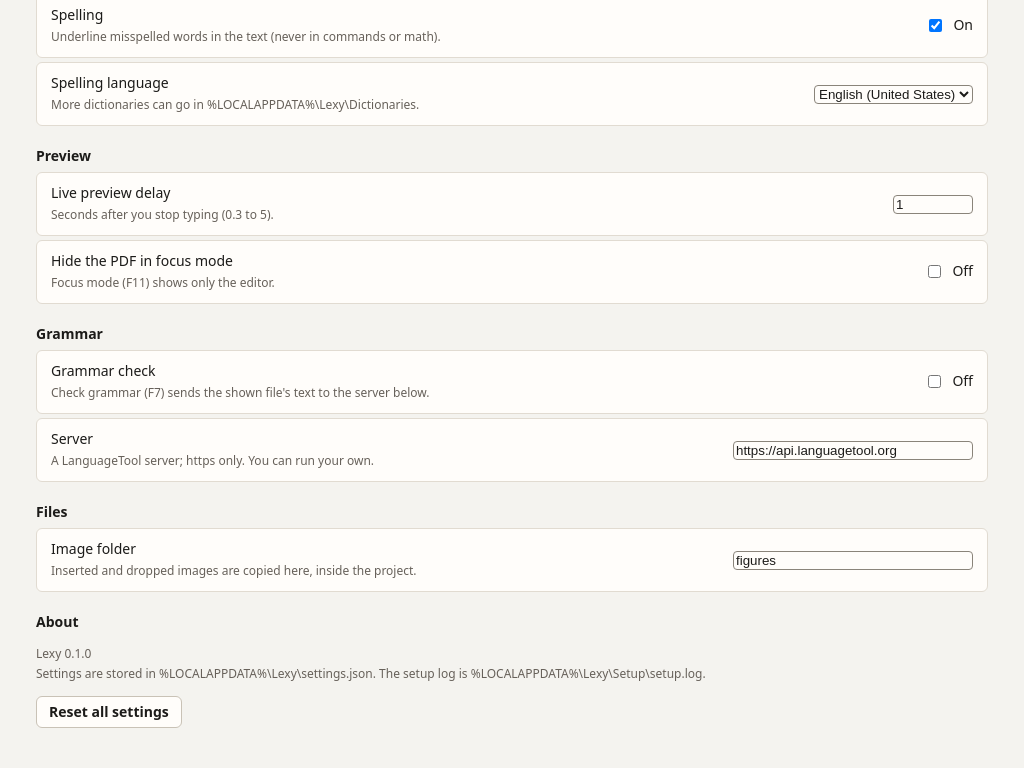
Test: SettingsDialog › refuses an invalid image folder or a non-https grammar server
(page scrolled)
Replace the text in the field labelled "Image folder" with "a:b" at (853, 560), box [733,550,973,570]
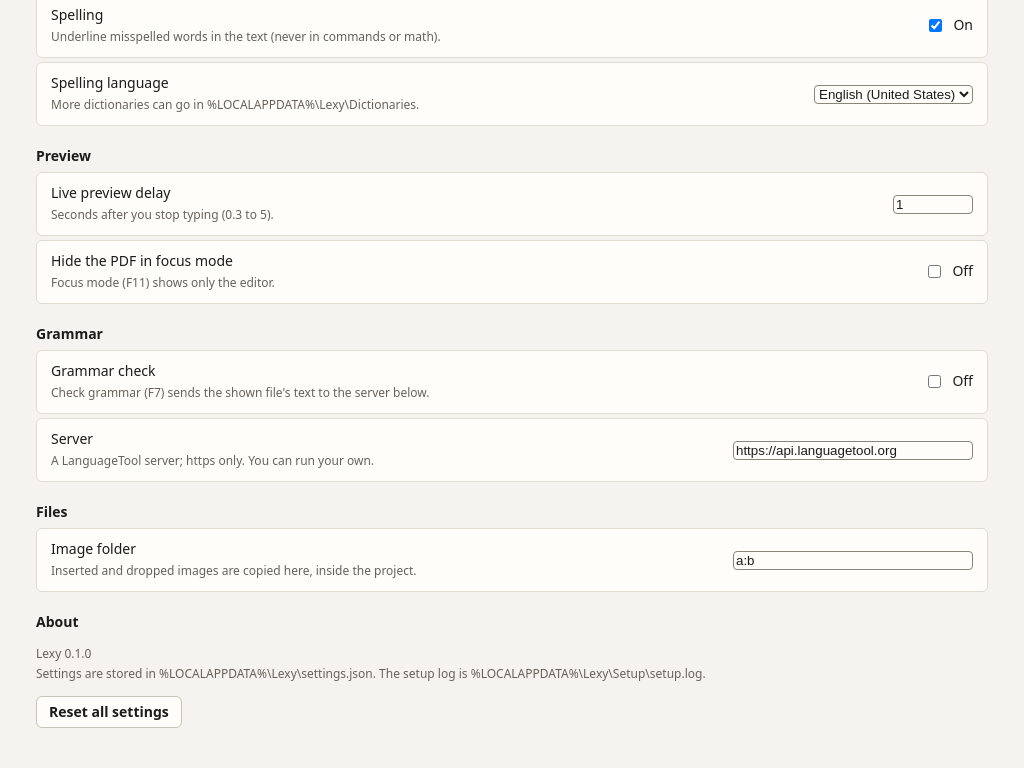
Leave the field labelled "Image folder", box [733,550,973,570]
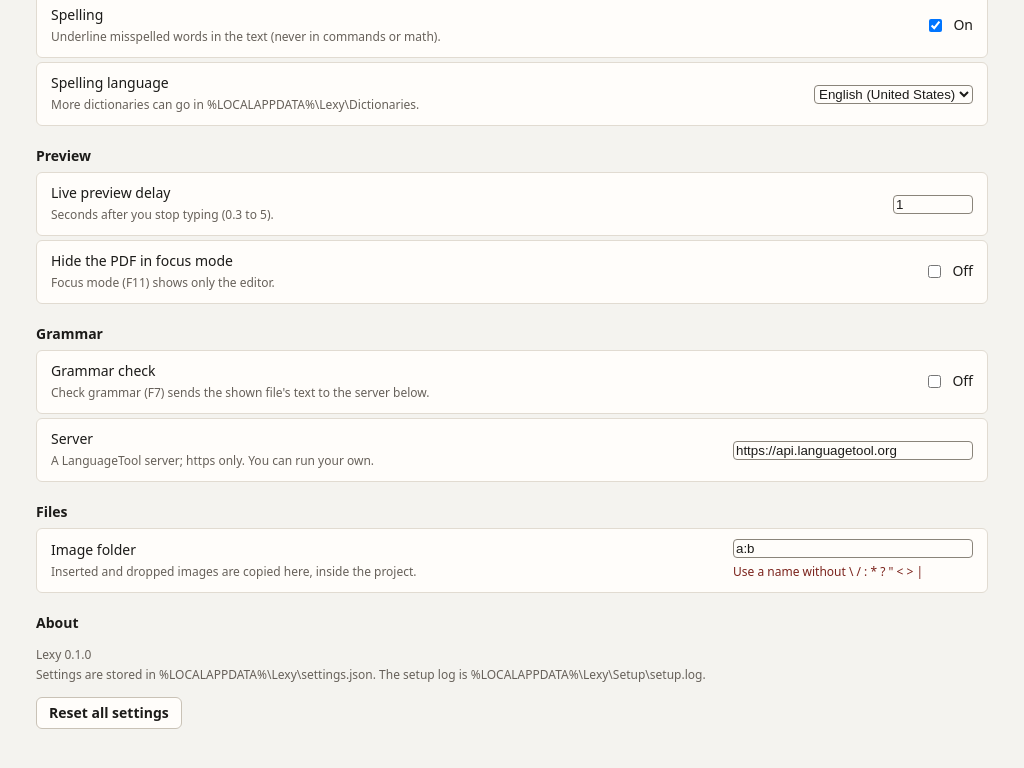
Result: the message shows "Use a name without" at [733,563,923,580]
Replace the text in the field labelled "Image folder" with "images" at (853, 548), box [733,539,973,558]
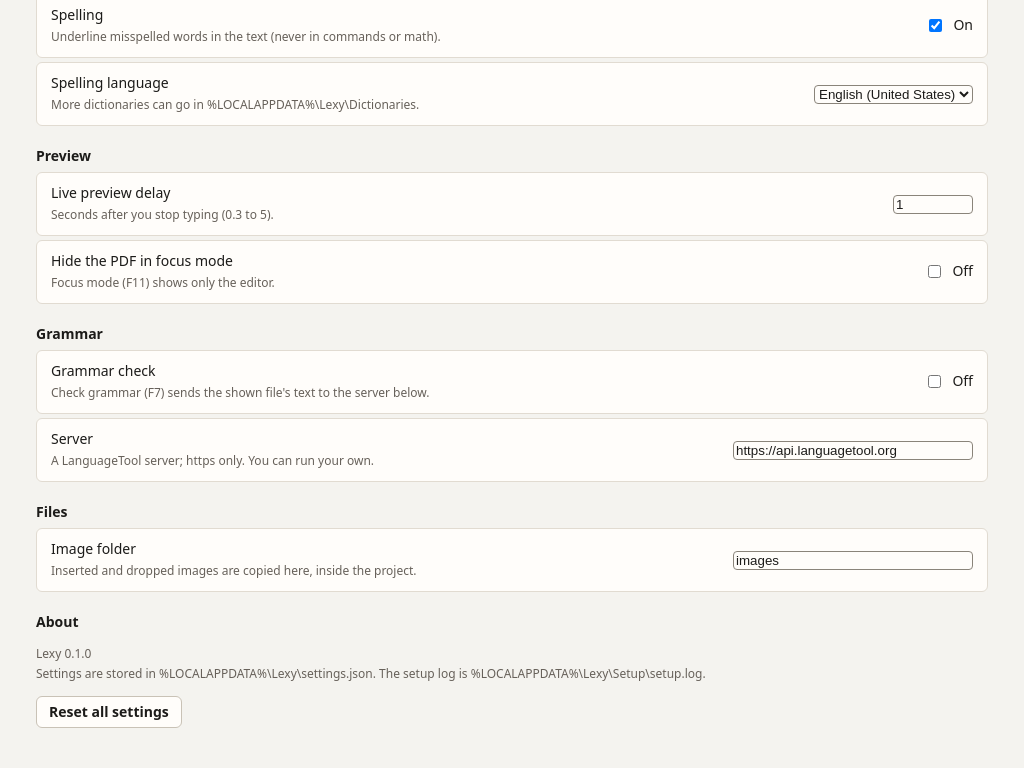
Replace the text in the field labelled "Server" with "http://lt.local" at (853, 450), box [733,440,973,460]
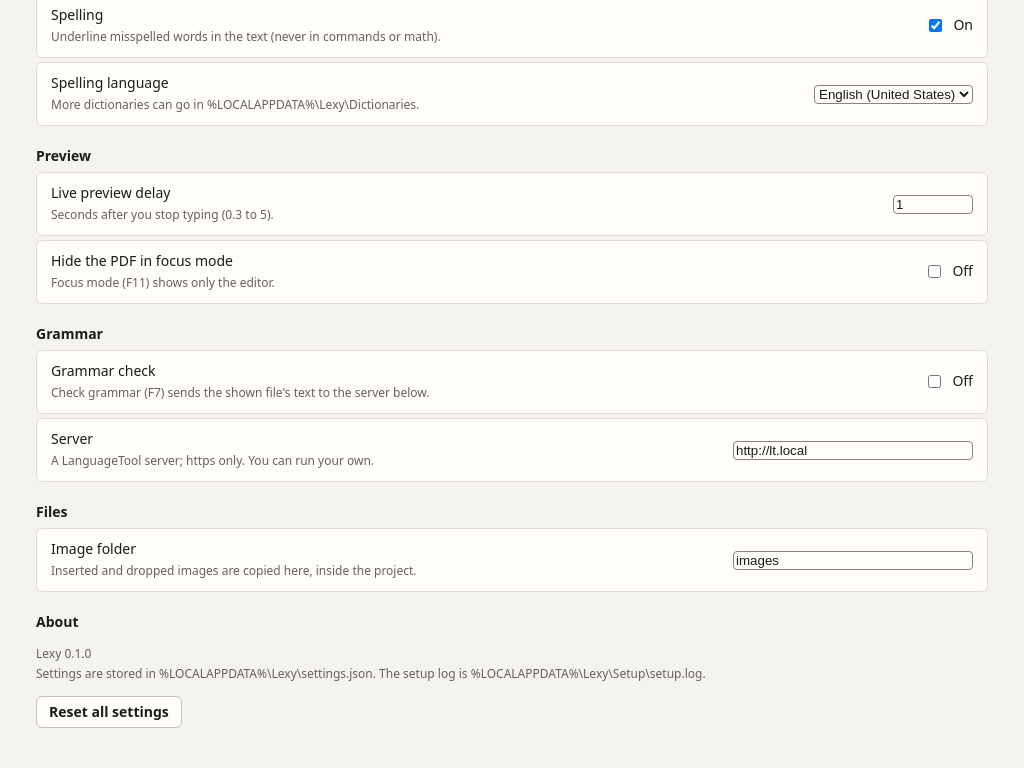
Leave the field labelled "Server", box [733,440,973,460]
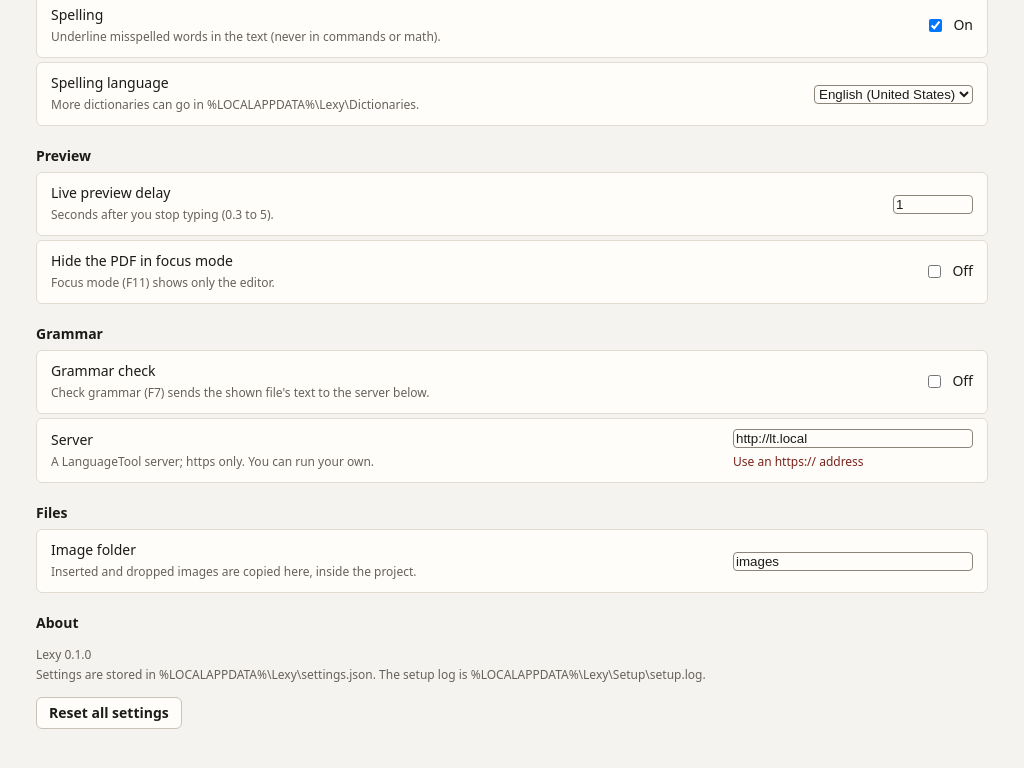
Result: the message reads "Use an https:// address" at [733,453,864,470]
